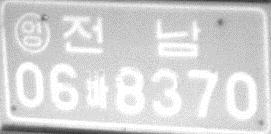0: (223, 69, 259, 121), (14, 60, 45, 108)
3: (149, 67, 183, 117)
6: (48, 62, 79, 111)
7: (187, 68, 218, 118)
8: (113, 66, 146, 117)
바: (85, 68, 110, 111)
영: (14, 11, 52, 54)
전남_D: (62, 14, 201, 59)
